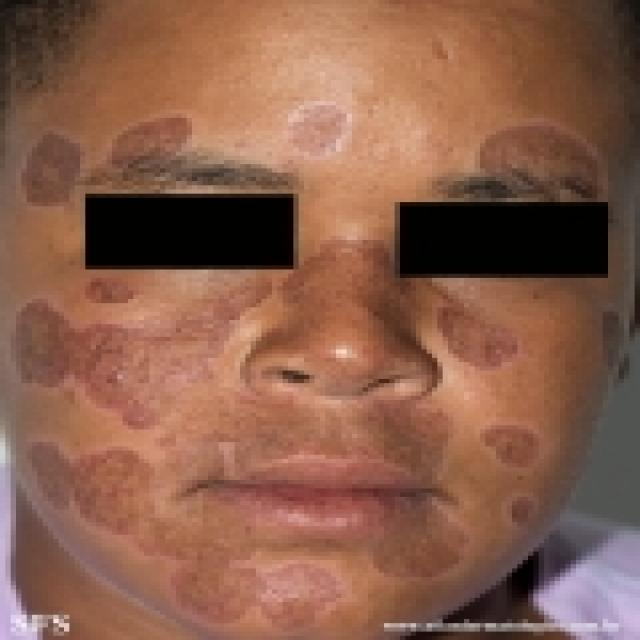lupus: (19, 102, 614, 624)
